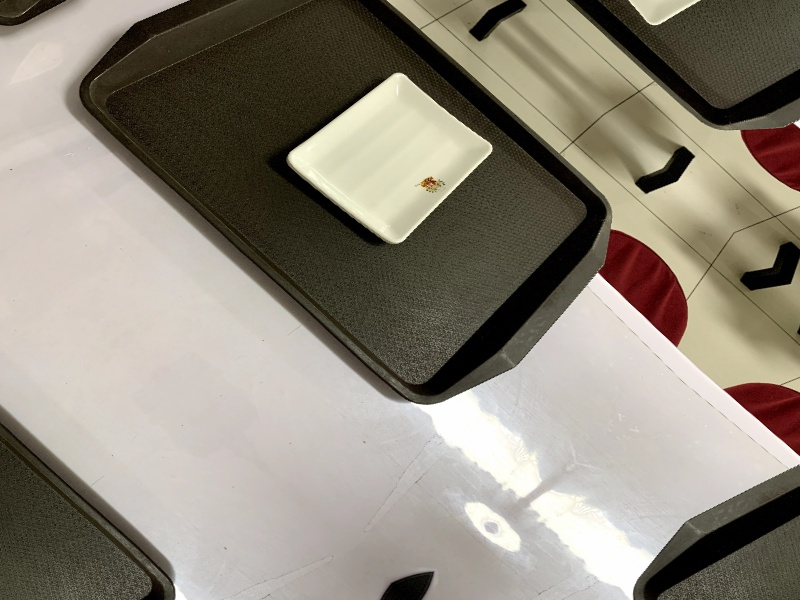dish4: (270, 57, 516, 262)
